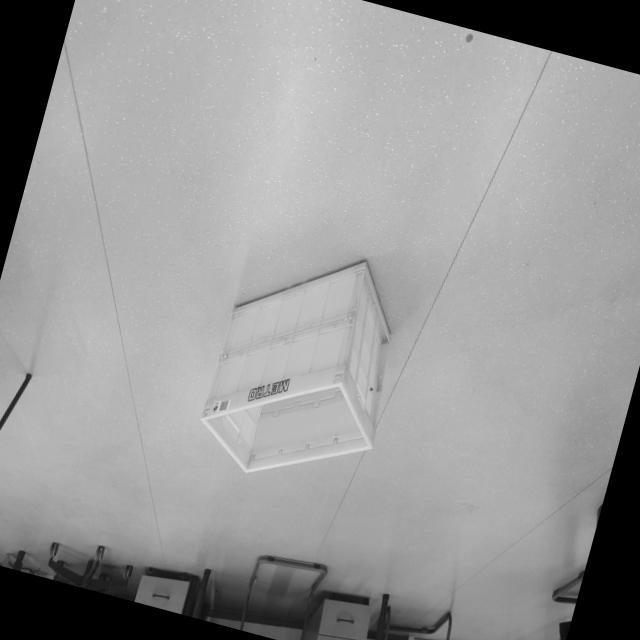box: (183, 224, 424, 508)
